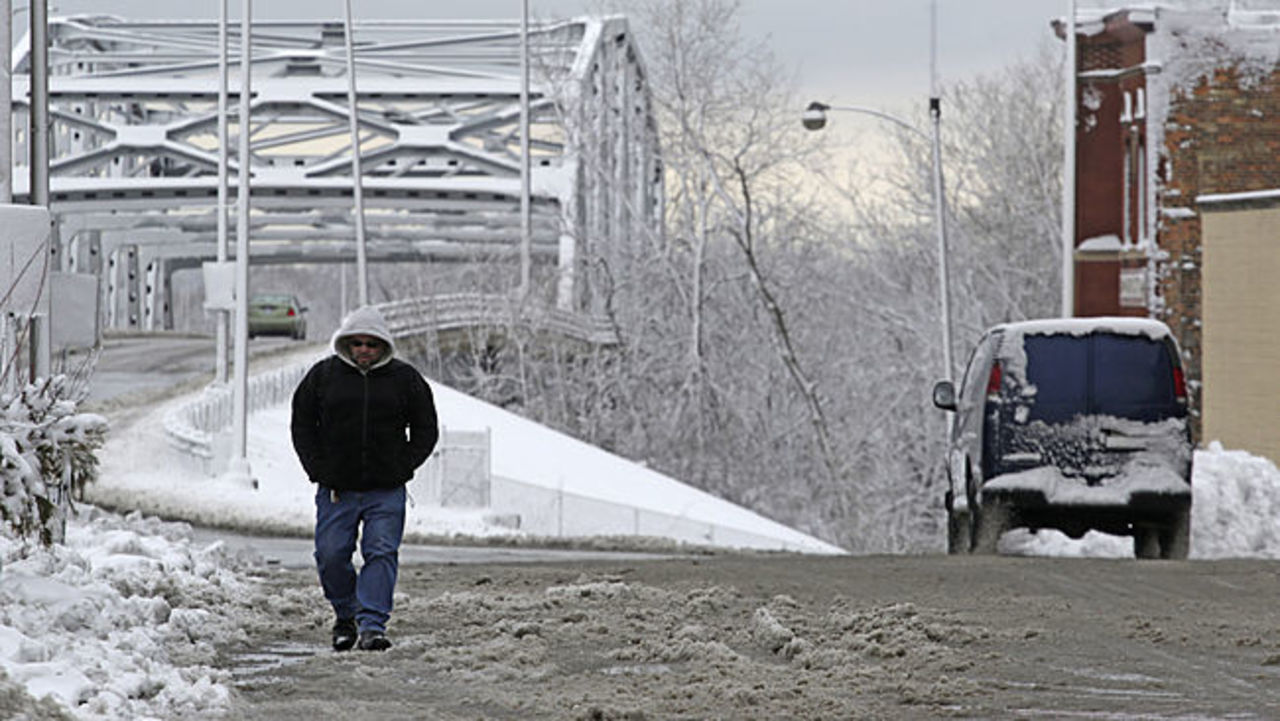car: (939, 324, 1199, 566), (248, 292, 308, 339)
person: (296, 318, 436, 649)
